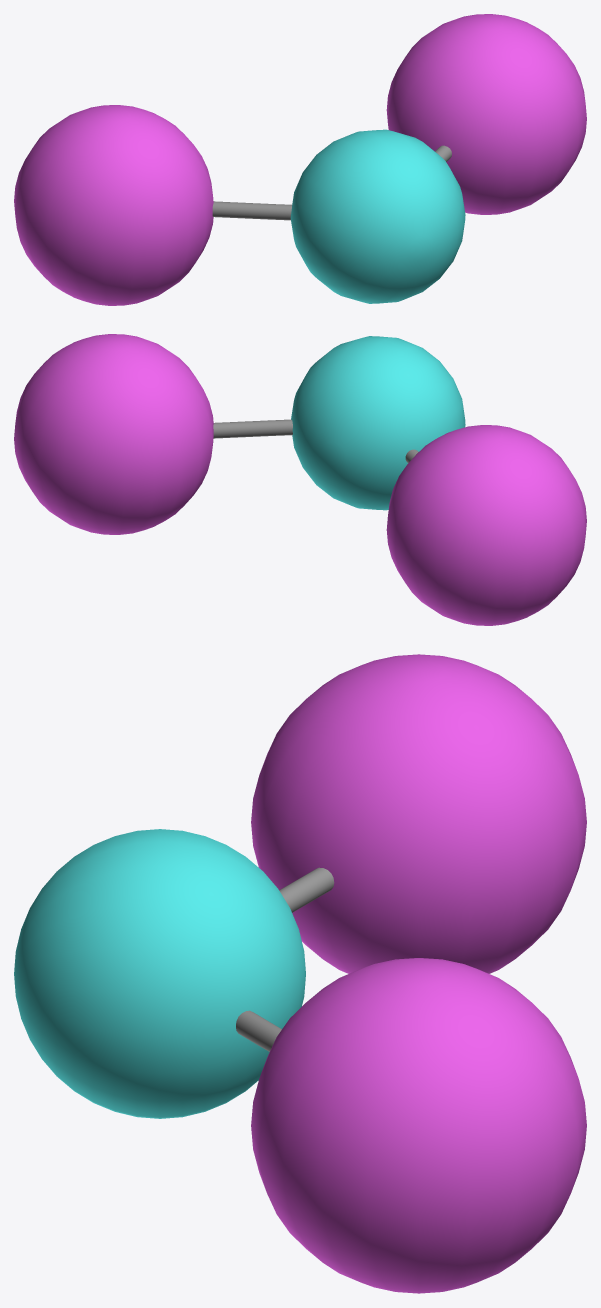
3 views of the same model, one above another, from view 1: azimuth 30°, elevation 25°; view 2: azimuth 150°, elevation 25°; view 3: azimuth 270°, elevation 25° (orthographic). The views are drawn at different scales.
Visible parts, largest first — view 1: Li2S; view 2: Li2S; view 3: Li2S.
Part boxes in pixels (x1=…): Li2S: x1=14, y1=14, x2=586, y2=305; Li2S: x1=14, y1=334, x2=586, y2=625; Li2S: x1=14, y1=654, x2=586, y2=1293.
Size of the model in its own units: 7.22 by 2.3 by 3.92.
